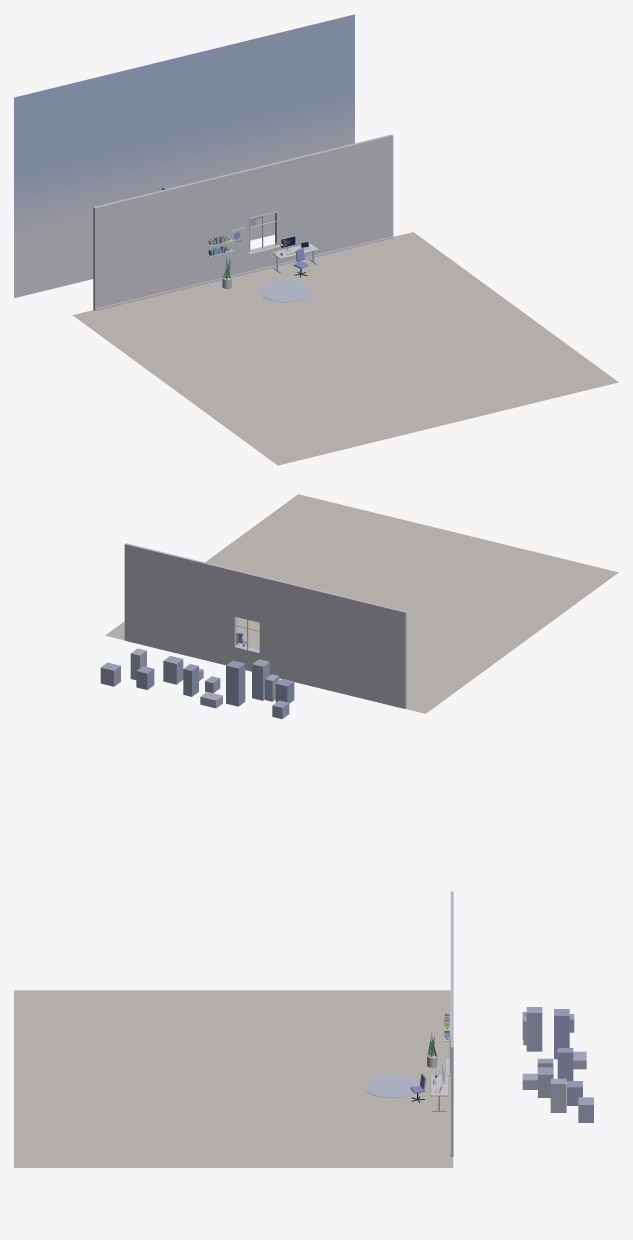
The model's file is set.glb.
3 views of the same model, one above another, from view 1: azimuth 30°, elevation 25°; view 2: azimuth 150°, elevation 25°; view 3: azimuth 270°, elevation 25° (orthographic). The views are drawn at different scales.
Visible parts, largest first — view 1: Skills_LitBig, Skills_Emit, Skills_LitDetail; view 2: Skills_LitBig, Skills_Emit, Skills_LitDetail; view 3: Skills_LitBig, Skills_Emit, Skills_LitDetail.
Part boxes in pixels (<box>): Skills_LitBig: <box>72,134,618,465</box>; Skills_Emit: <box>14,14,354,298</box>; Skills_LitDetail: <box>207,211,318,302</box>; Skills_LitBig: <box>105,494,618,713</box>; Skills_Emit: <box>100,648,294,718</box>; Skills_LitDetail: <box>233,615,260,654</box>; Skills_LitBig: <box>14,891,453,1167</box>; Skills_Emit: <box>522,1007,593,1122</box>; Skills_LitDetail: <box>364,1013,450,1111</box>.
Bounding box in the file's own units: 16.9 × 9 × 23.
